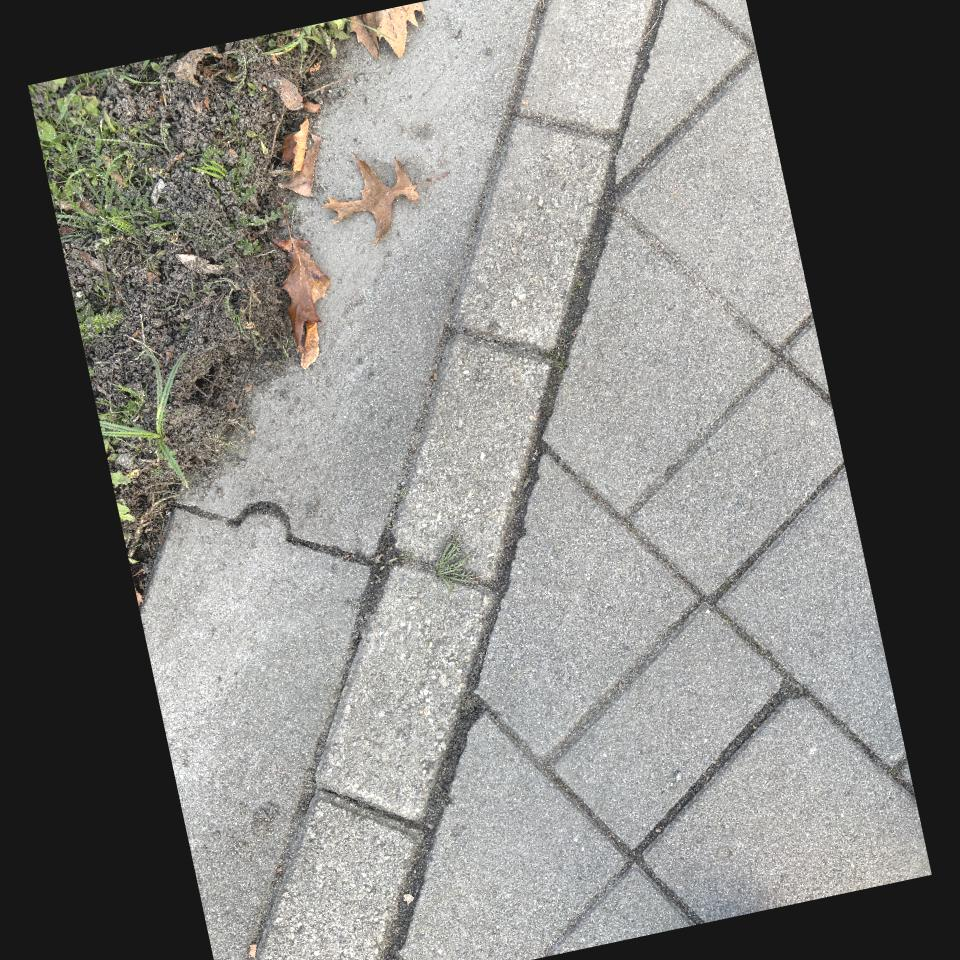weed: (434, 538, 477, 590)
